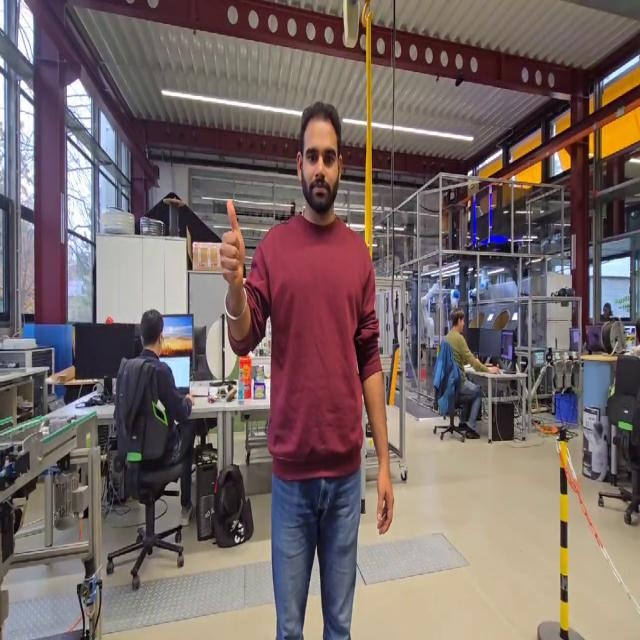thumbs_up: (216, 194, 248, 293)
